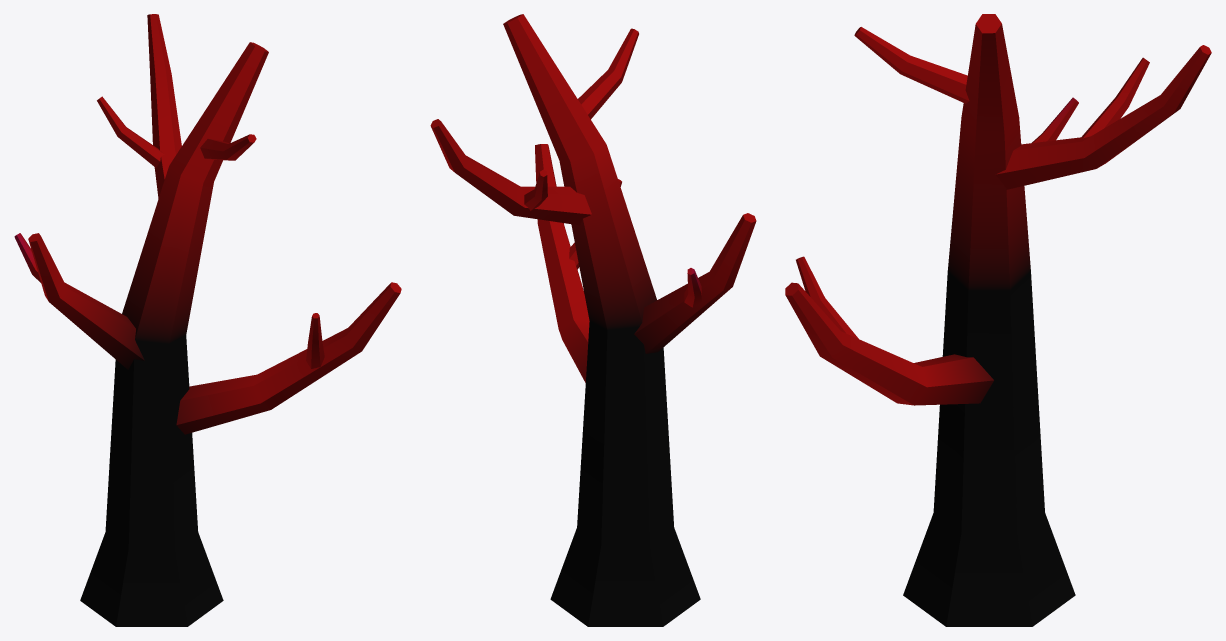
Rendered from BoldTreeDynamic 1.fbx.
3 views of the same model, side by side, from view 1: azimuth 30°, elevation 25°; view 2: azimuth 150°, elevation 25°; view 3: azimuth 270°, elevation 25° (orthographic). The views are drawn at different scales.
Parts seen in each view (by area): view 1: tree_01; view 2: tree_01; view 3: tree_01.
Part boxes in pixels (box(x1,y1,x2,y2)): tree_01: box(14, 14, 401, 626); tree_01: box(430, 14, 756, 626); tree_01: box(785, 14, 1211, 626).
Size of the model in its own units: 186 by 324 by 196.
